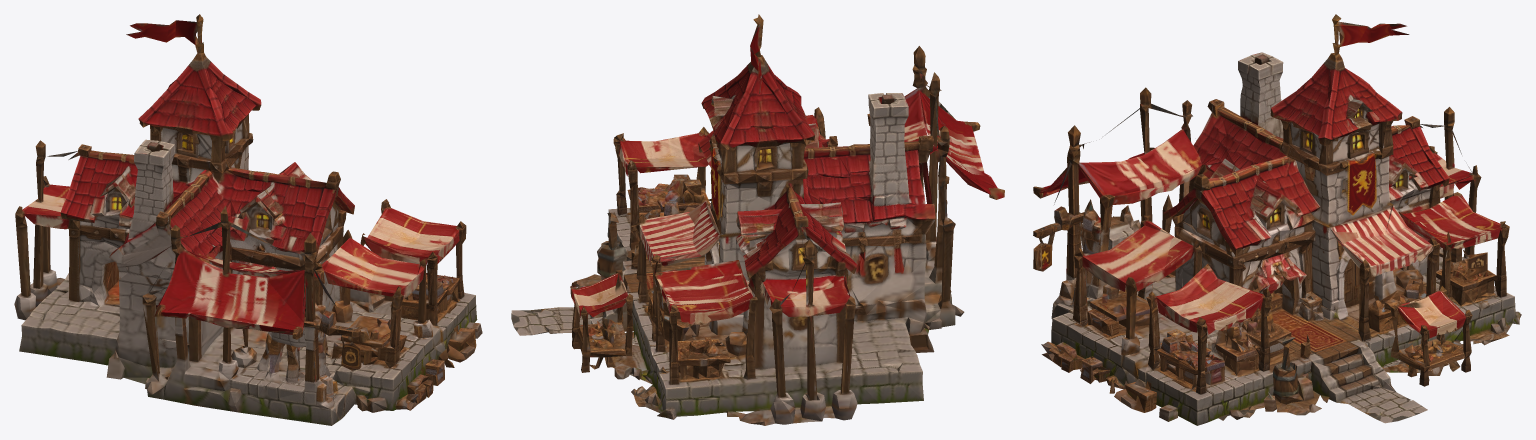
Rendered from trading_hub.glb.
3 views of the same model, side by side, from view 1: azimuth 30°, elevation 25°; view 2: azimuth 150°, elevation 25°; view 3: azimuth 270°, elevation 25° (orthographic). The views are drawn at different scales.
Visible parts, largest first — view 1: TradingHub; view 2: TradingHub; view 3: TradingHub.
Part boxes in pixels (x1=…): TradingHub: x1=14, y1=14, x2=482, y2=425; TradingHub: x1=511, y1=14, x2=1004, y2=425; TradingHub: x1=1033, y1=14, x2=1521, y2=425.
Bounding box in the file's own units: 2.91 × 2.27 × 3.25.
Materials: 1 (1 with a texture image).
